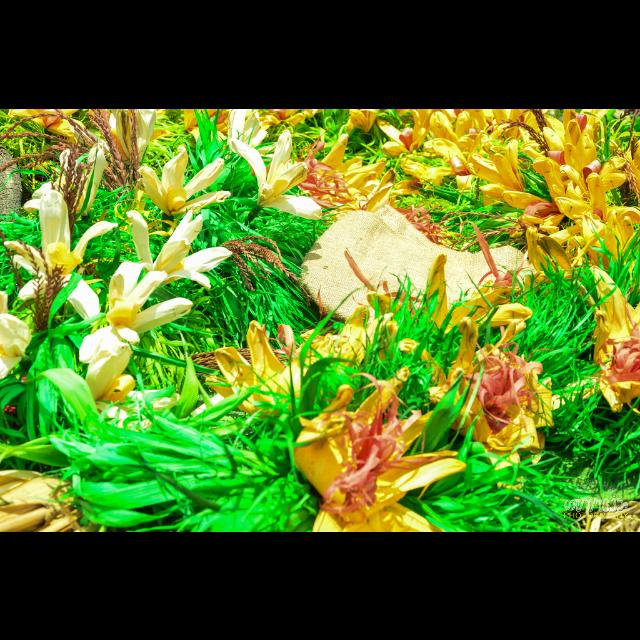Flower: (1, 109, 640, 532), (472, 339, 544, 449)
